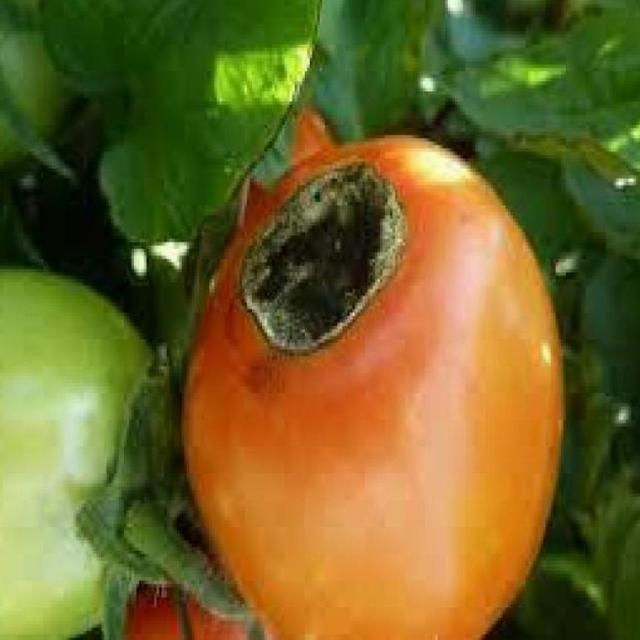Blossom End Rot Fruit: (152, 99, 271, 248)
